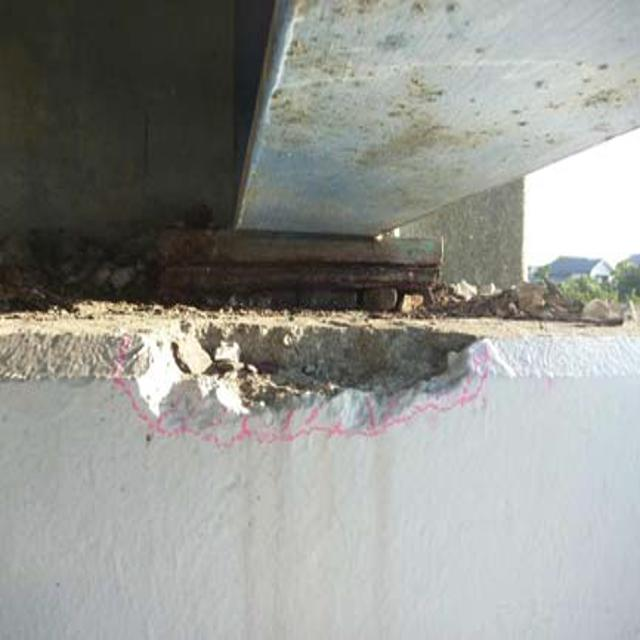spalling: (156, 286, 500, 436)
